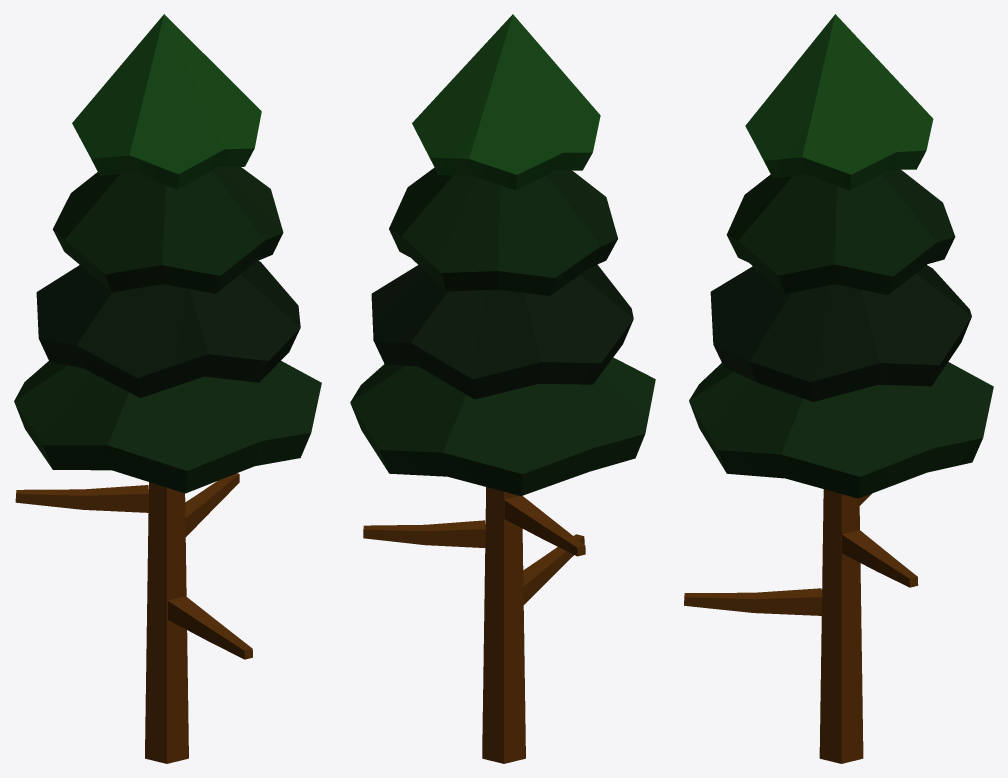
File: SM__Coniferous__Tree__Growth__3.fbx
3 renders of one model, left to right at view 1: azimuth 30°, elevation 25°; view 2: azimuth 150°, elevation 25°; view 3: azimuth 270°, elevation 25°, orthographic.
Visible parts, largest first — view 1: groupdelete5; view 2: groupdelete5; view 3: groupdelete5.
Boxes of the visible parts, box(x1,y1,x2,y2) form: groupdelete5: box(14, 14, 321, 763); groupdelete5: box(350, 14, 655, 763); groupdelete5: box(684, 14, 993, 763).
Bounding box in the file's own units: 4.13 × 10.95 × 4.17.
